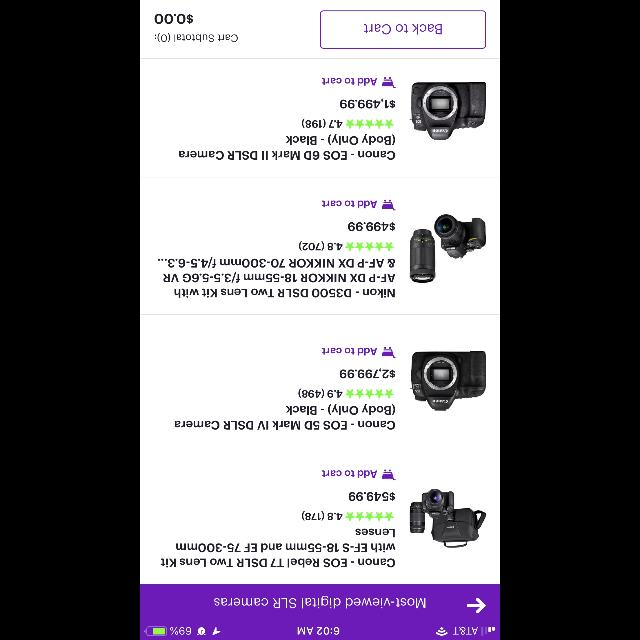icon: (346, 119, 394, 129), (345, 242, 393, 252), (345, 389, 393, 399), (345, 511, 393, 521), (466, 597, 486, 613), (382, 76, 396, 88), (381, 347, 395, 358), (382, 200, 396, 210), (382, 470, 396, 480)
image: (409, 214, 485, 284), (410, 351, 486, 411), (410, 488, 486, 548), (409, 82, 486, 140)
text: (158, 256, 396, 298), (161, 528, 395, 568), (175, 404, 395, 430), (179, 134, 395, 160), (214, 596, 426, 608), (154, 32, 238, 42), (340, 368, 394, 378), (340, 98, 394, 108), (348, 222, 396, 232), (298, 388, 342, 398), (322, 470, 376, 478), (322, 347, 376, 355), (322, 200, 376, 208), (322, 78, 376, 86), (349, 492, 395, 501), (302, 511, 342, 521), (302, 118, 342, 128), (155, 14, 193, 24), (299, 242, 343, 250)
textbutton: (320, 10, 486, 48)
uppertaskbar: (140, 626, 500, 640)
